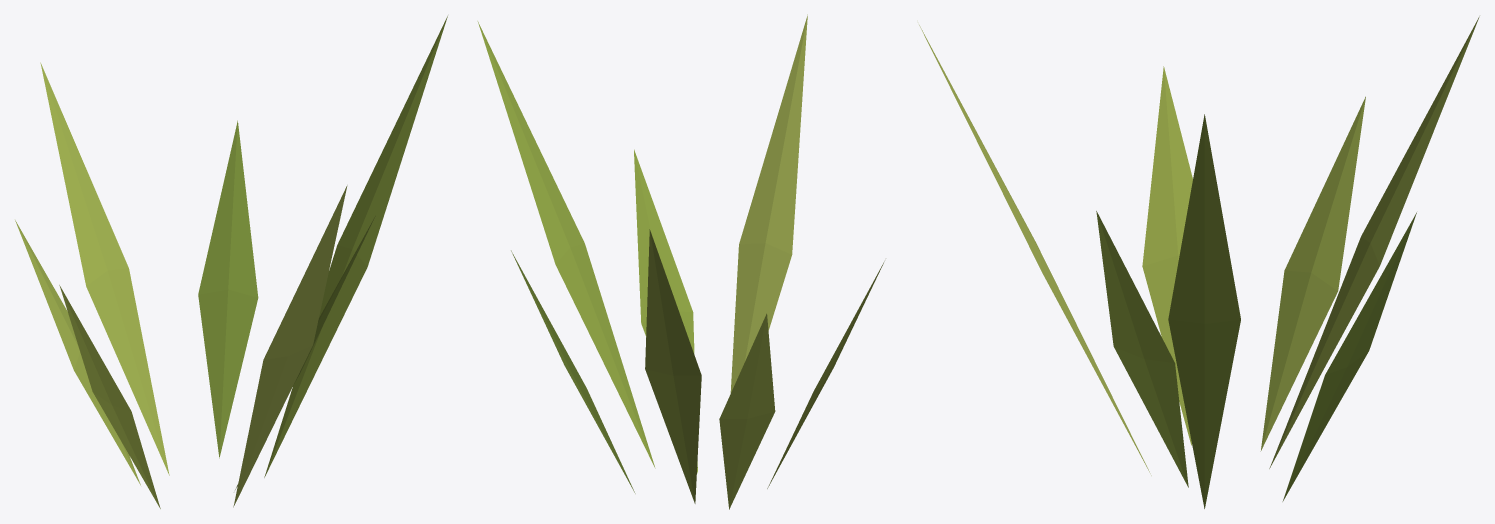
The model's file is Grass_Medium.fbx.
The picture shows the model from 3 angles, left to right: view 1: azimuth 30°, elevation 25°; view 2: azimuth 150°, elevation 25°; view 3: azimuth 270°, elevation 25°; orthographic projection. The views are drawn at different scales.
Parts seen in each view (by area): view 1: Grass_Medium; view 2: Grass_Medium; view 3: Grass_Medium.
Part boxes in pixels (left/top/right/bottom): Grass_Medium: left=15, top=16, right=447, bottom=508; Grass_Medium: left=477, top=14, right=884, bottom=509; Grass_Medium: left=919, top=16, right=1479, bottom=508.
Bounding box in the file's own units: 50.27 × 49.7 × 50.44.
